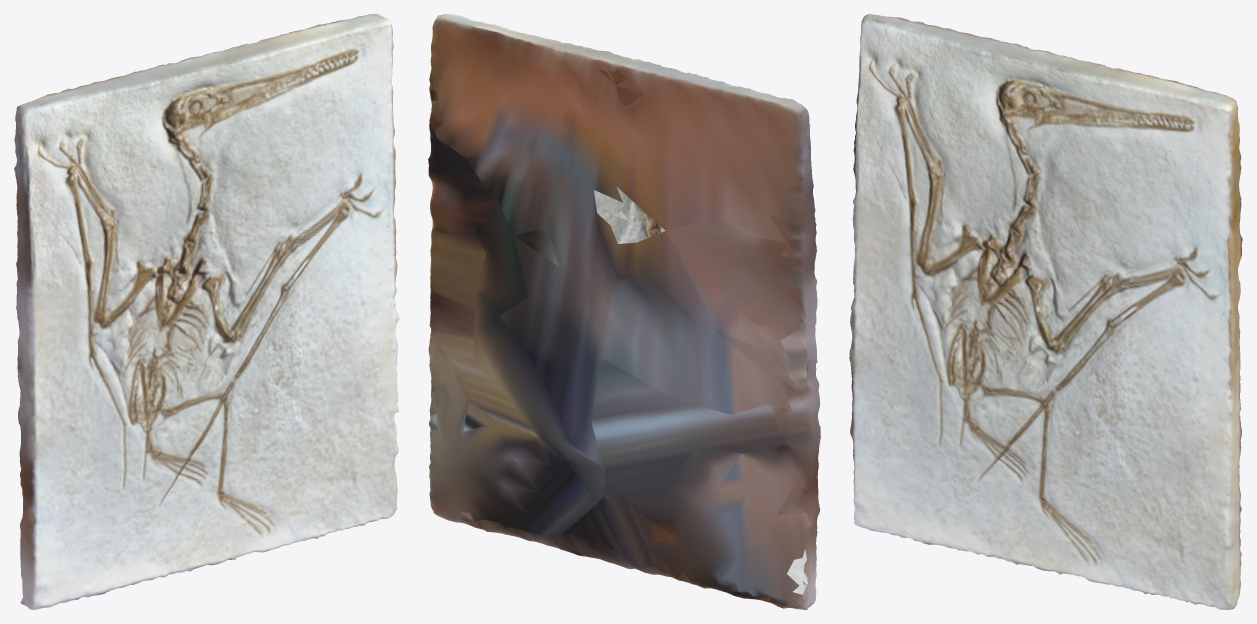
The model's file is pterodactylus_antiquus_cast.glb.
The picture shows the model from 3 angles, left to right: view 1: azimuth 30°, elevation 25°; view 2: azimuth 150°, elevation 25°; view 3: azimuth 330°, elevation 25°; orthographic projection.
Parts seen in each view (by area): view 1: Object_2; view 2: Object_2; view 3: Object_2.
Boxes of the visible parts, x1,y1,x2,y2 form: Object_2: (14, 14, 399, 609); Object_2: (428, 14, 820, 609); Object_2: (849, 14, 1242, 609).
Size of the model in its own units: 0.1425 by 0.1825 by 0.0222.
1 material, 1 textured.
